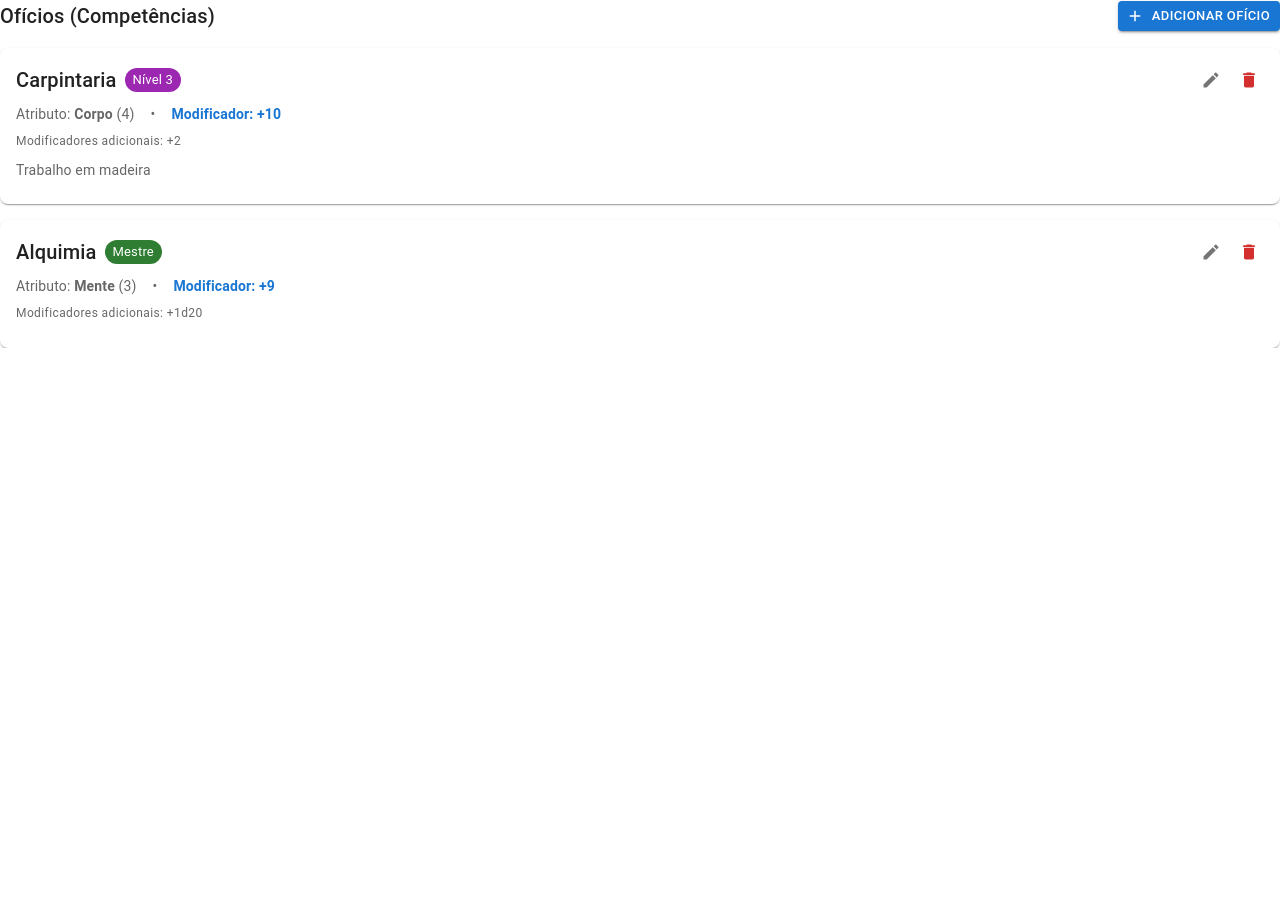
CraftsDisplay › Edição de Ofícios › deve abrir formulário de edição ao clicar em Editar
Click the button named "Editar". click: click(1211, 80)
box: [1196,65,1226,95]
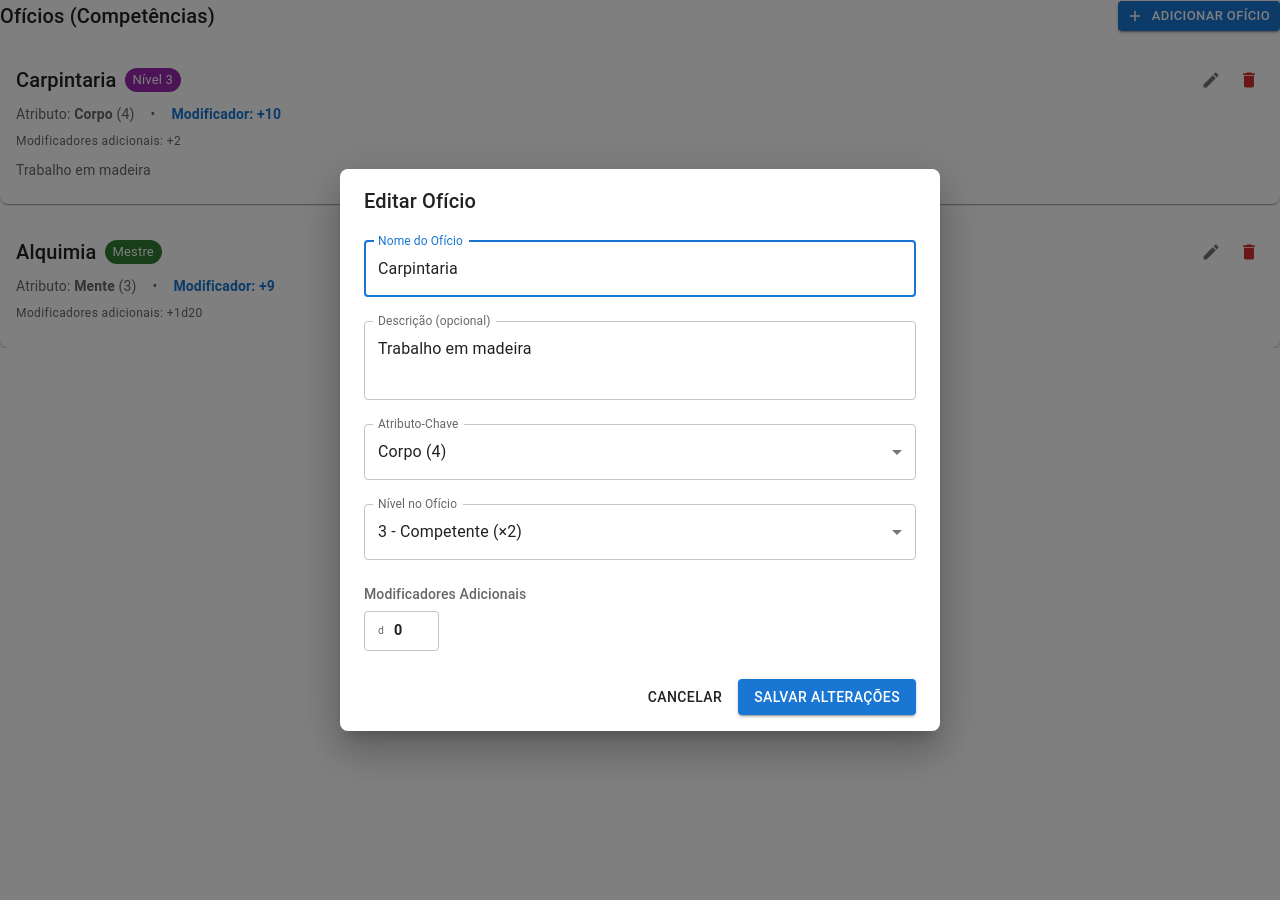
Check: the heading "Editar Ofício" is shown, box [364,189,476,213]
Check: the field showing "Carpintaria" is shown, box [364,241,916,297]
